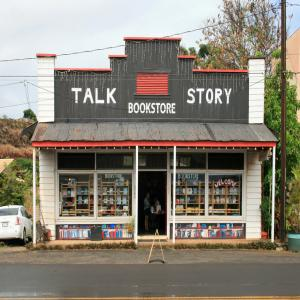Vehicle-registration-plate: (3, 223, 10, 228)
